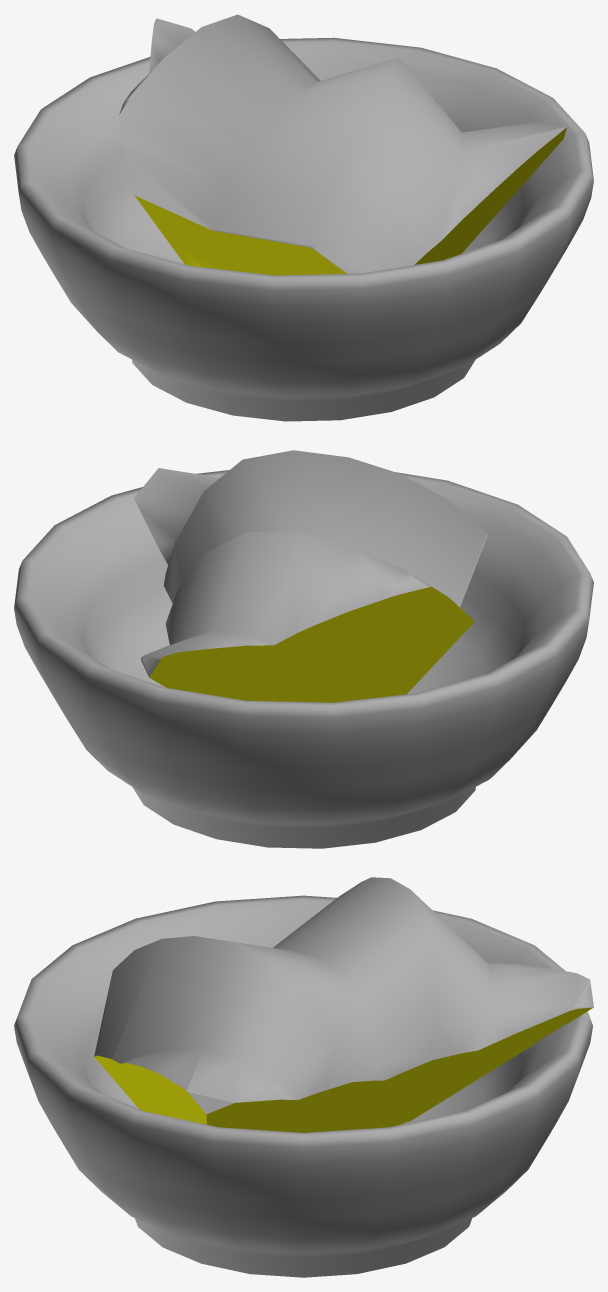
Rendered from CutPumpkinInBowl.fbx.
3 views of the same model, one above another, from view 1: azimuth 30°, elevation 25°; view 2: azimuth 150°, elevation 25°; view 3: azimuth 270°, elevation 25° (orthographic).
Parts seen in each view (by area): view 1: cuenco, shard20; view 2: cuenco, shard20; view 3: cuenco, shard20.
Part boxes in pixels (x1,y1,x2,y2): cuenco: (14, 37, 593, 421); shard20: (118, 14, 566, 275); cuenco: (14, 470, 593, 848); shard20: (134, 450, 488, 702); cuenco: (14, 895, 592, 1277); shard20: (94, 877, 593, 1132).
Size of the model in its own units: 44.38 by 24.84 by 44.45.
